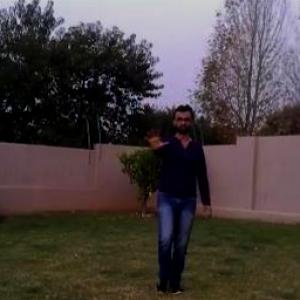follow_hand: (141, 122, 172, 151)
